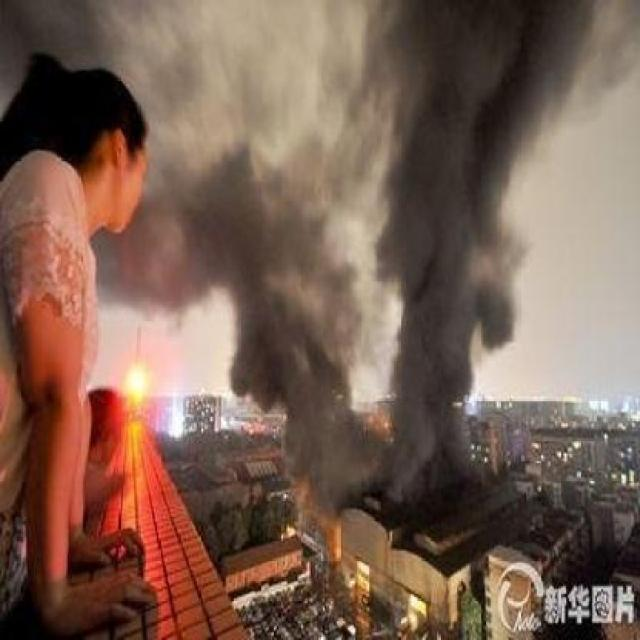Fire: (318, 504, 353, 566)
Smoke: (374, 2, 592, 494), (191, 152, 378, 494)
